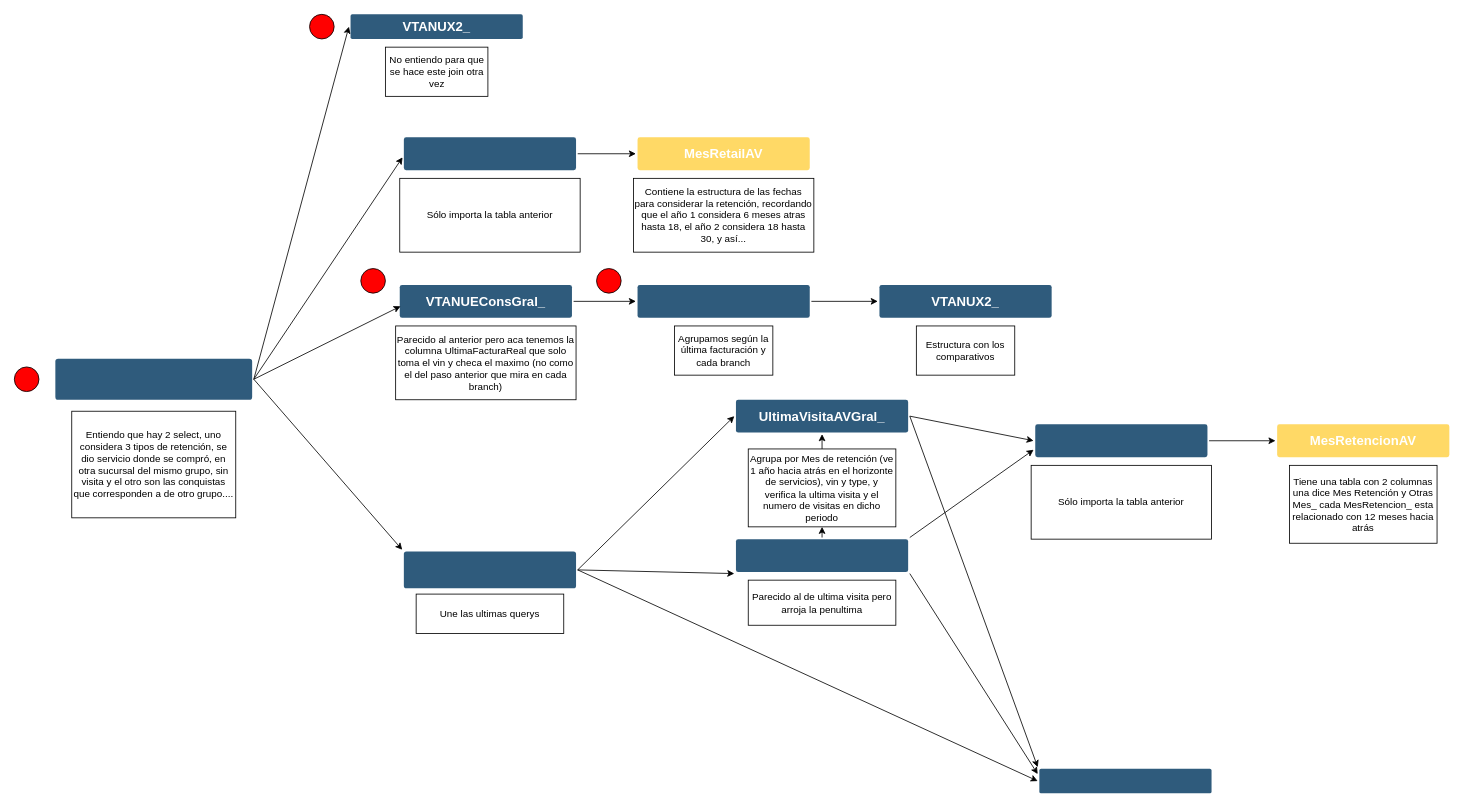
This 1464x808 diagram has some shape labels left out. The centre of each missing label's shape, as x and y in pixels:
MesRetailAV_: the point at 489,153
MesRetencionAV_: the point at 1121,440
PenultimaVisitaAVGral_: the point at 822,555
RetencArtesanalAVGral_: the point at 489,569
RetencionFinal_: the point at 153,378
SERVTC2_: the point at 1125,780
VTANUEConsGralPaso_: the point at 723,301
